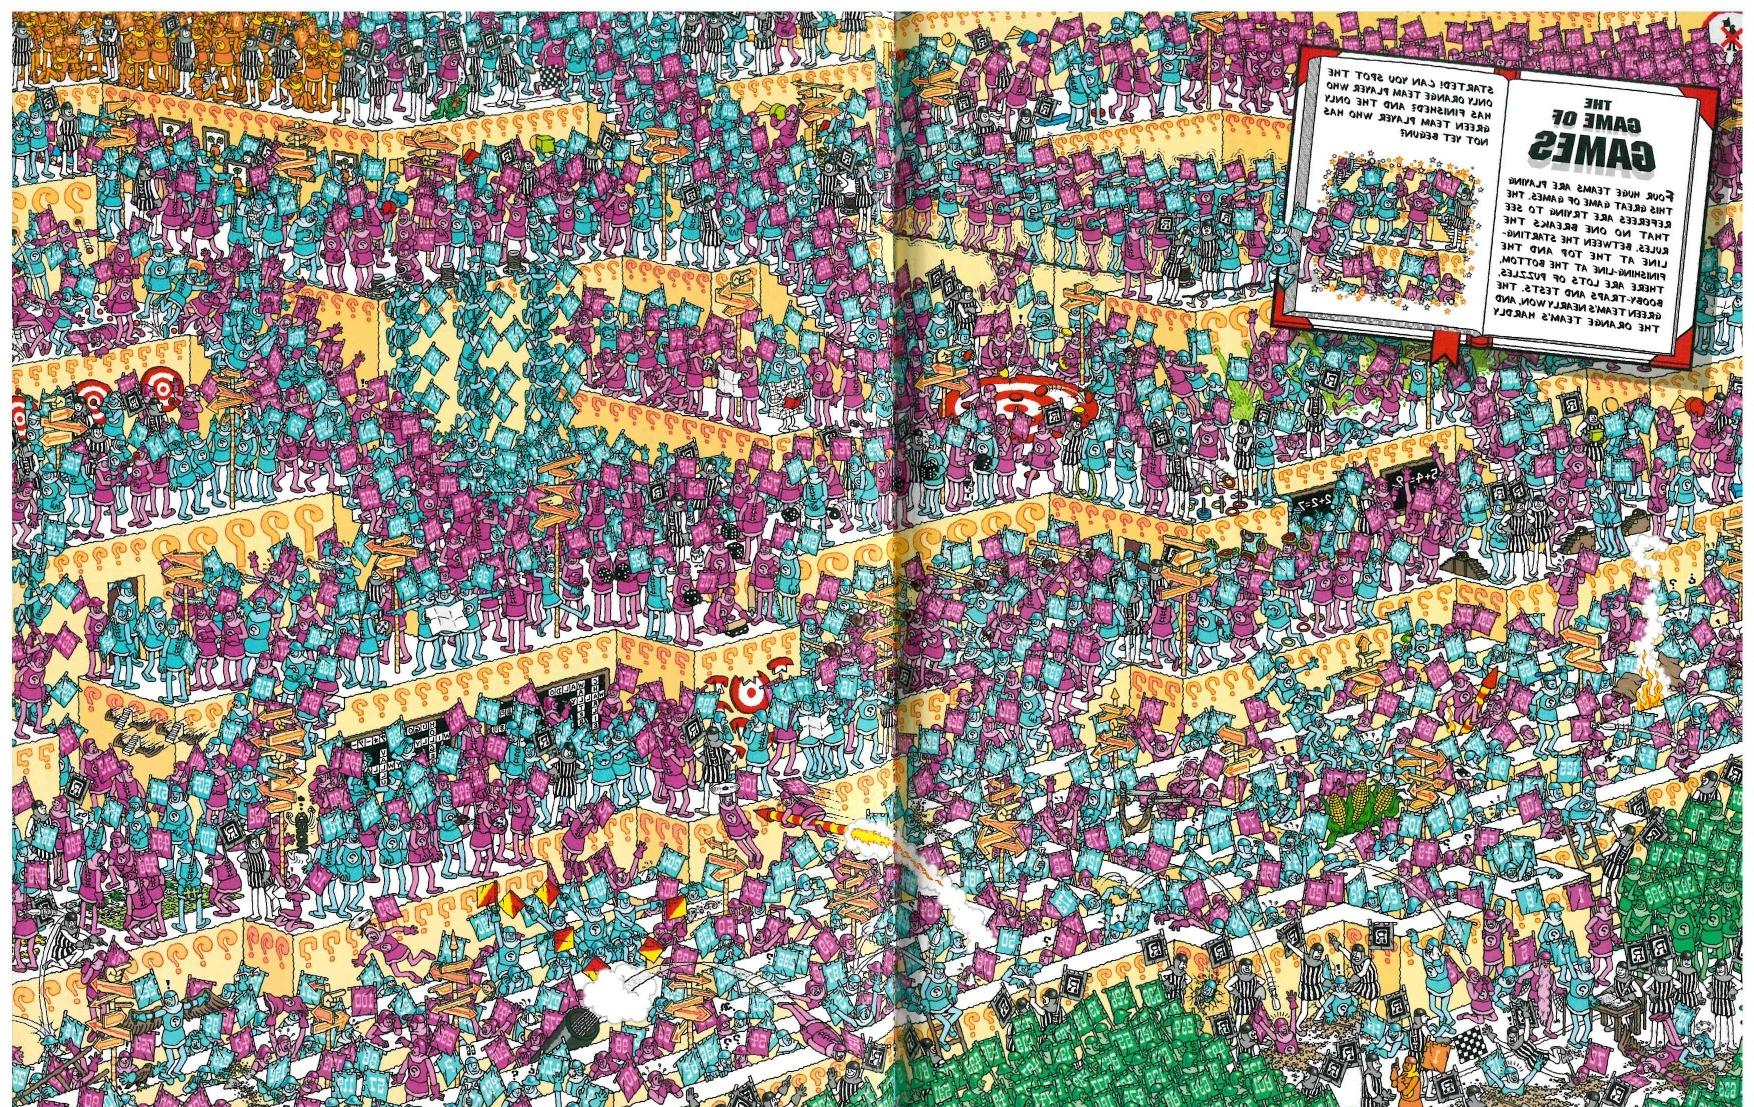waldos: (1122, 343, 1141, 374)
